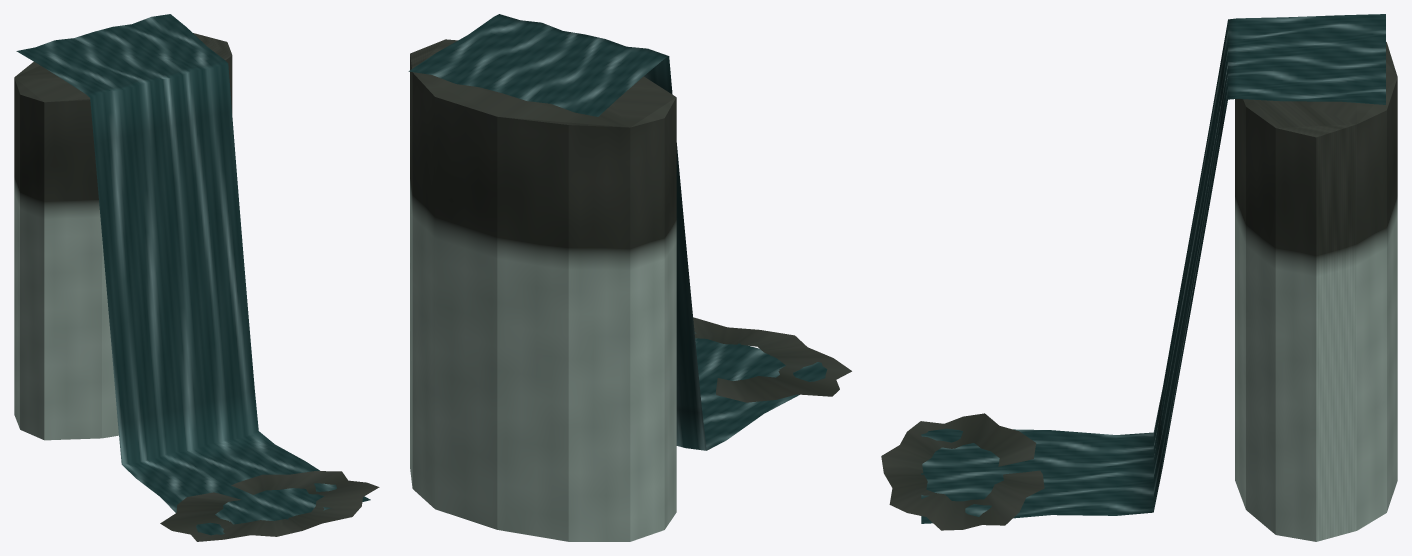
The model's file is fall-wide-lod0.glb.
The picture shows the model from 3 angles, left to right: view 1: azimuth 30°, elevation 25°; view 2: azimuth 150°, elevation 25°; view 3: azimuth 270°, elevation 25°; orthographic projection. The views are drawn at different scales.
Size of the model in its own units: 0.6175 by 1 by 1.11.
1 material, 1 textured.
